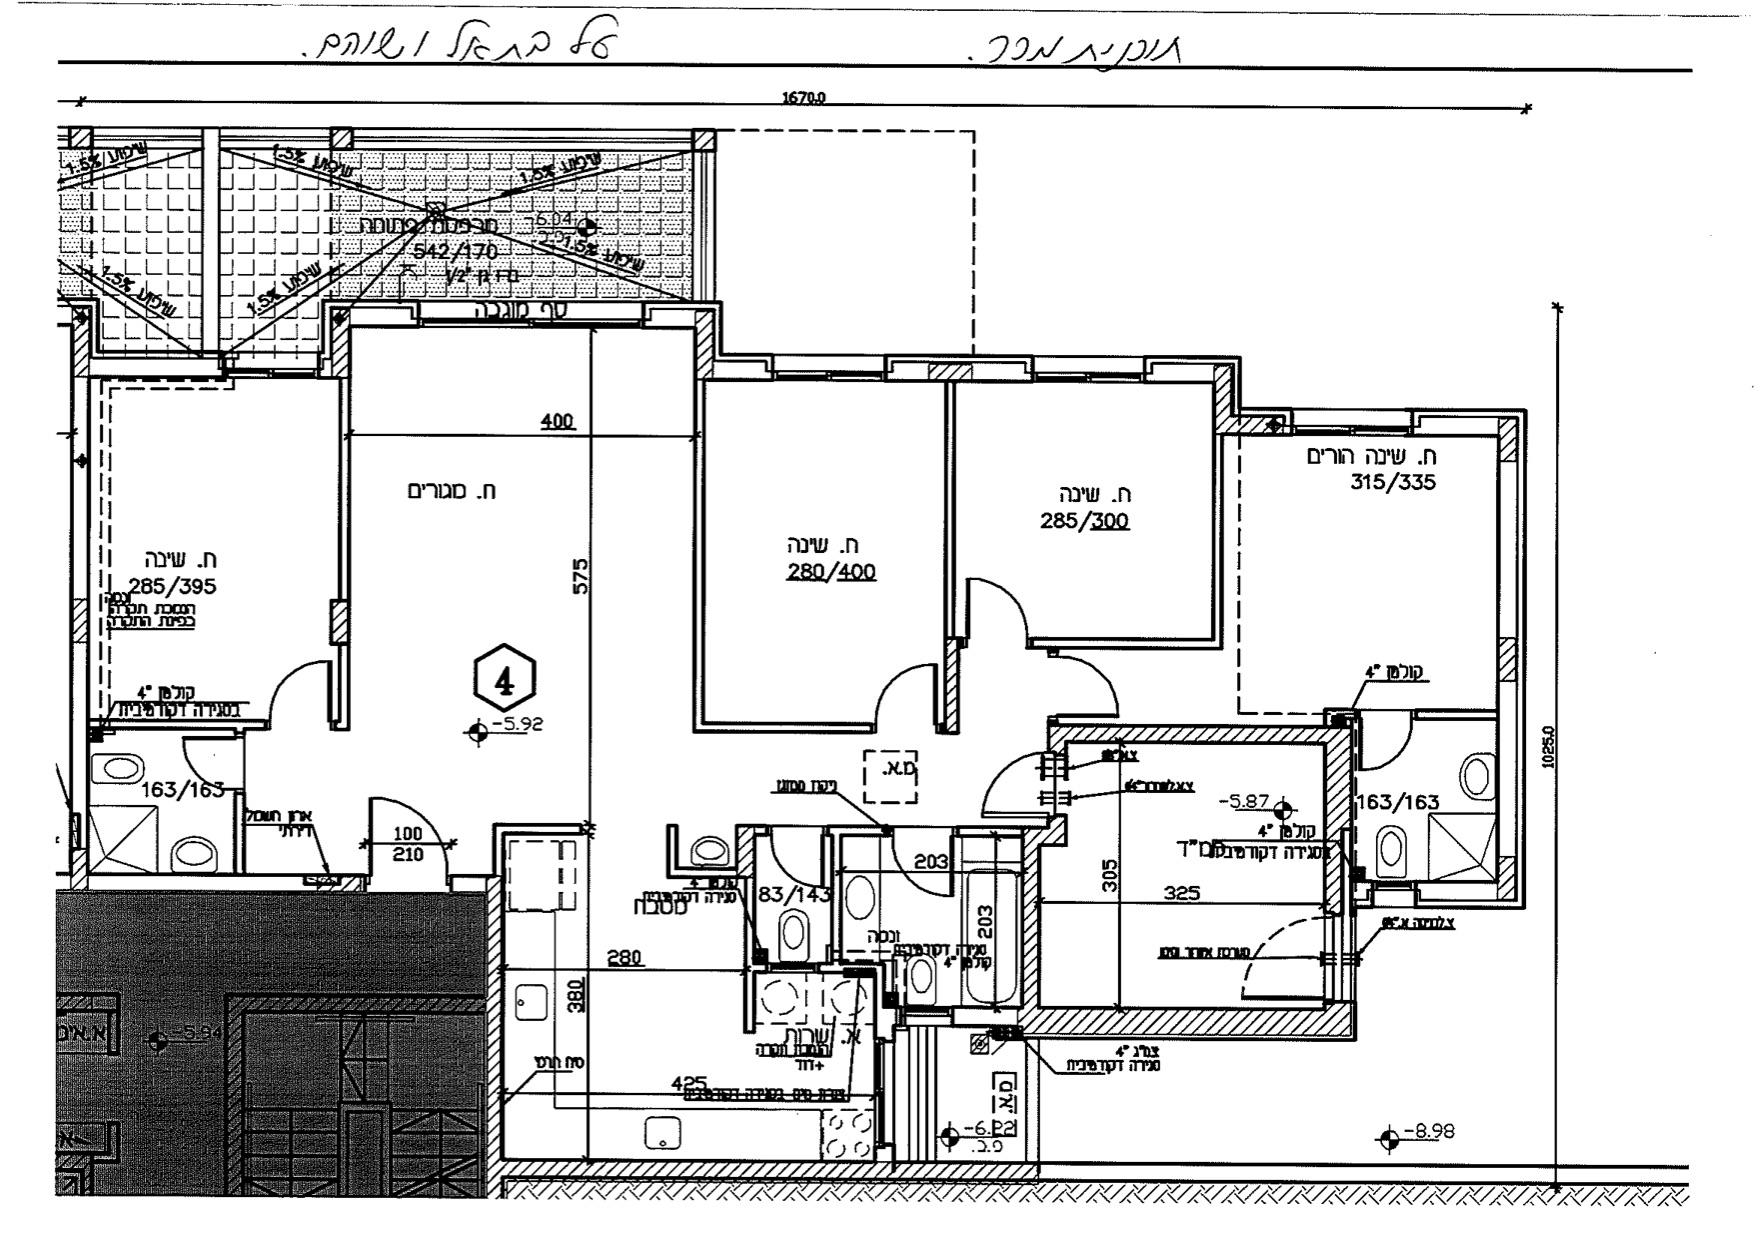door: (362, 796, 455, 888), (887, 809, 968, 913), (761, 809, 833, 898), (872, 651, 941, 743), (960, 568, 1028, 659), (258, 659, 331, 743), (1047, 654, 1126, 723), (174, 731, 264, 792), (1359, 701, 1414, 773)
wall: (1024, 1002, 1357, 1040), (1139, 719, 1317, 756)
window: (884, 346, 1036, 382)
